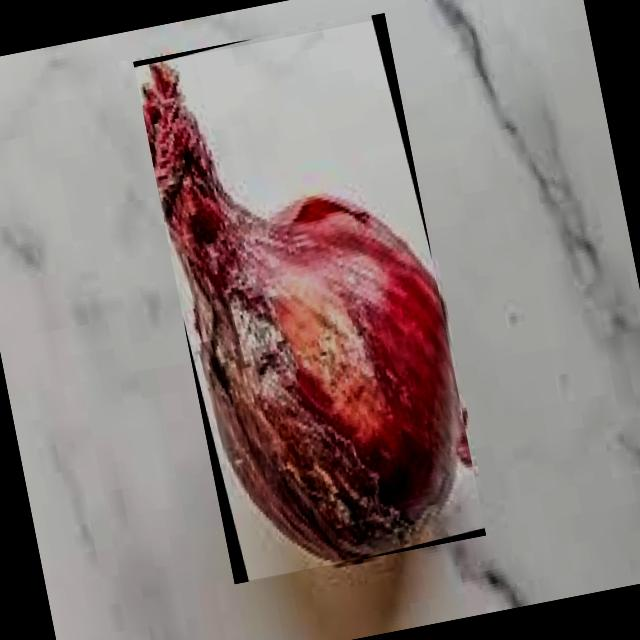rotten: (141, 65, 471, 559)
